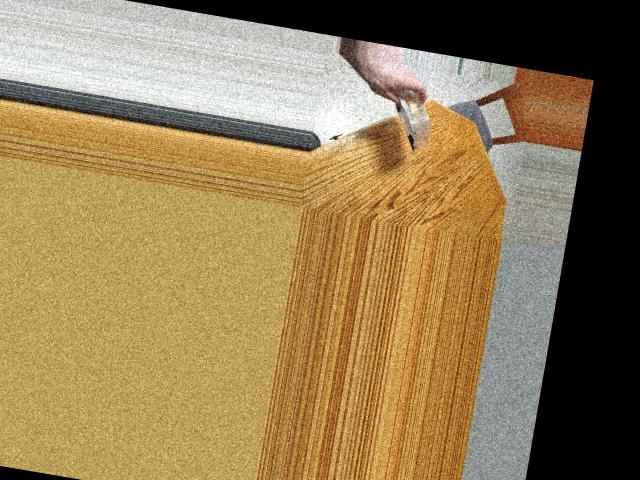cheese: (389, 85, 437, 151)
